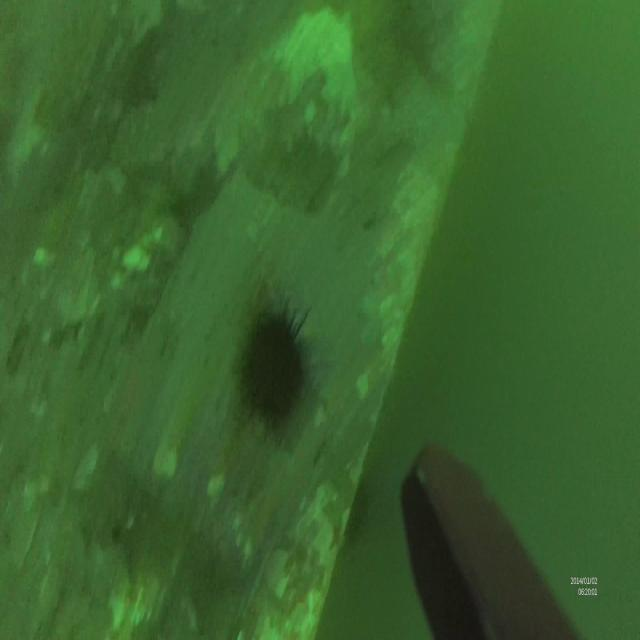echinus: (230, 298, 306, 425)
